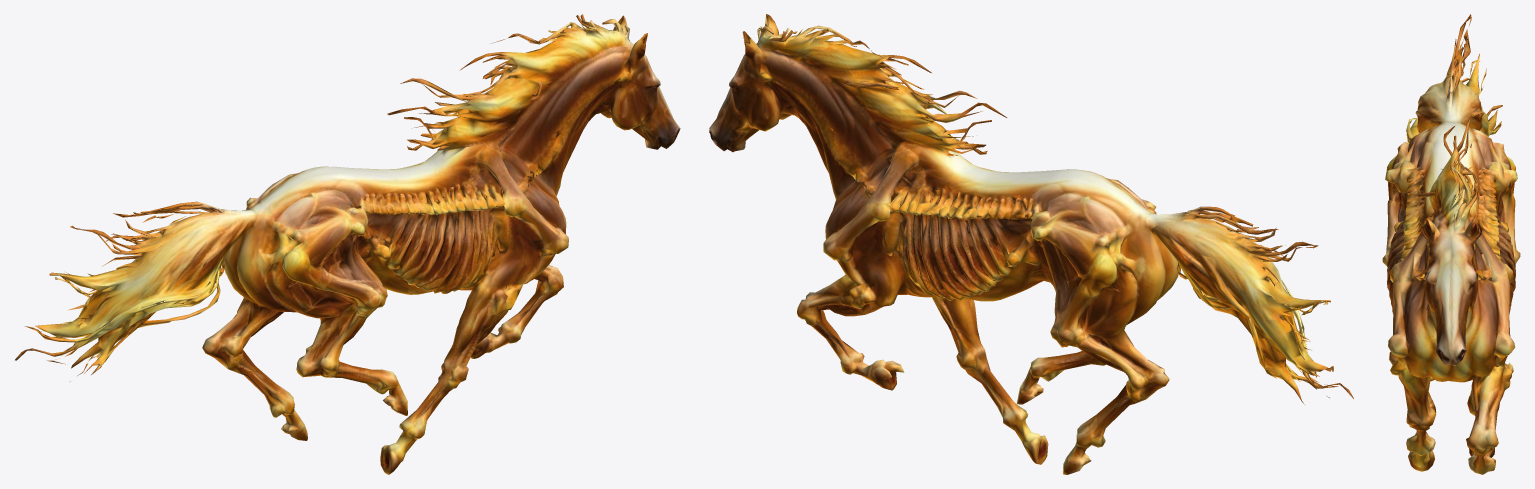
The model's file is horse-of-light.glb.
The picture shows the model from 3 angles, left to right: view 1: azimuth 30°, elevation 25°; view 2: azimuth 150°, elevation 25°; view 3: azimuth 270°, elevation 25°; orthographic projection. The views are drawn at different scales.
Parts seen in each view (by area): view 1: tripo_node_43e9ac91-cf60-4d4b-b38c-3f32394a1c0c; view 2: tripo_node_43e9ac91-cf60-4d4b-b38c-3f32394a1c0c; view 3: tripo_node_43e9ac91-cf60-4d4b-b38c-3f32394a1c0c.
Boxes of the visible parts, x1=… form: tripo_node_43e9ac91-cf60-4d4b-b38c-3f32394a1c0c: x1=15, y1=14, x2=680, y2=474; tripo_node_43e9ac91-cf60-4d4b-b38c-3f32394a1c0c: x1=709, y1=14, x2=1353, y2=474; tripo_node_43e9ac91-cf60-4d4b-b38c-3f32394a1c0c: x1=1382, y1=14, x2=1520, y2=474.
Size of the model in its own units: 0.9759 by 0.5654 by 0.1763.
1 material, 1 textured.
